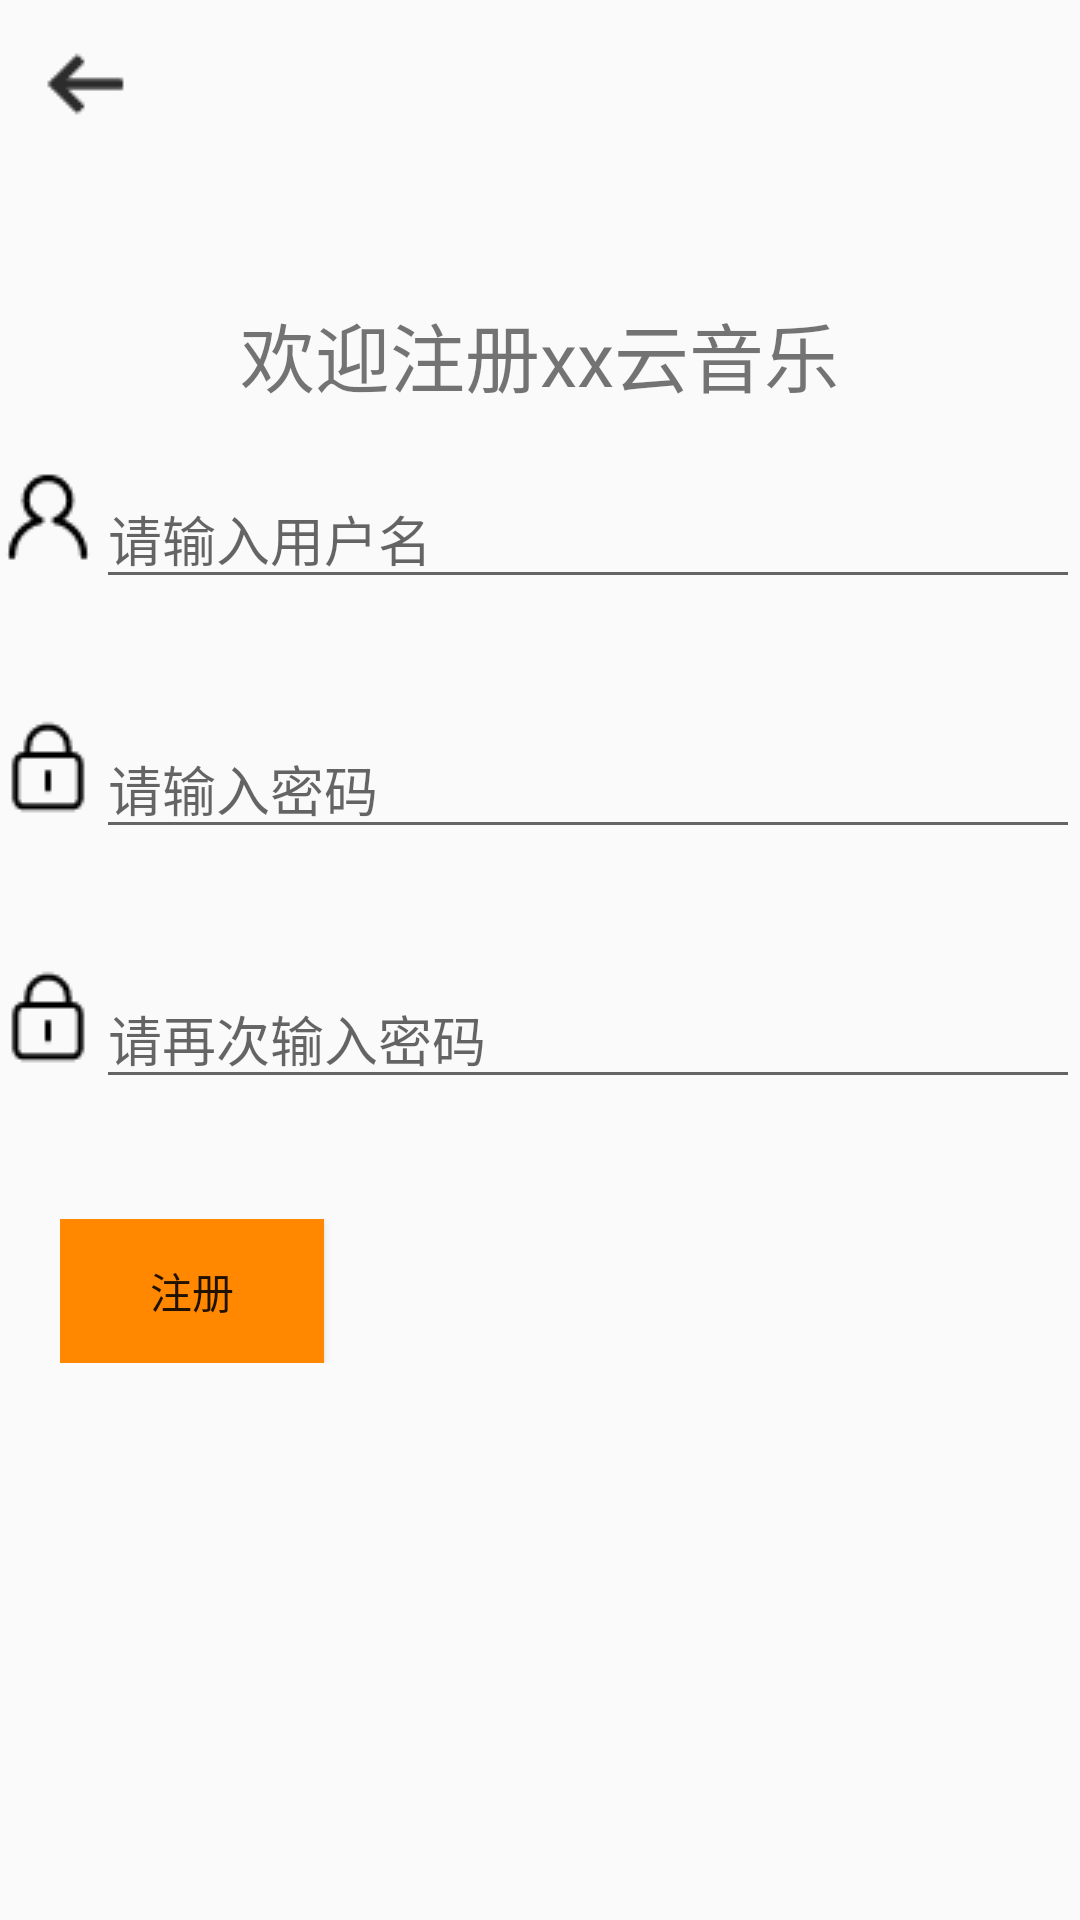

Screen size 1080w x 1920h. Icon name, then its center in pixels as (x,y):
lock: (48,767), (48,1017)
user: (48,517)
